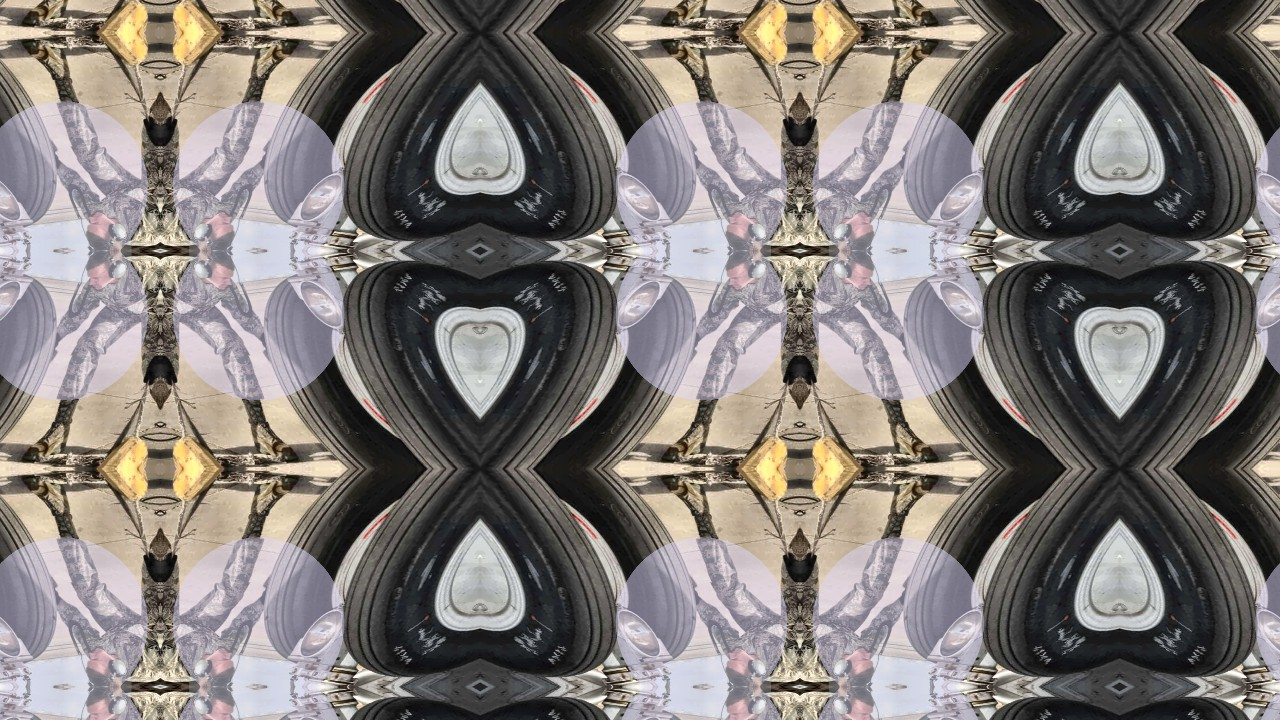chock: (4, 419, 157, 469), (163, 419, 316, 469), (644, 419, 797, 469), (803, 419, 956, 469), (4, 469, 157, 519), (163, 469, 316, 519), (644, 469, 797, 519), (803, 469, 956, 519), (4, 33, 157, 82), (163, 33, 316, 82), (644, 33, 797, 82), (803, 33, 956, 82), (4, 0, 157, 32), (163, 0, 316, 32), (644, 0, 797, 32), (803, 0, 956, 32)
wheel: (230, 269, 480, 469), (480, 269, 730, 469), (870, 269, 1120, 469), (230, 469, 480, 669), (480, 469, 730, 669), (870, 469, 1120, 669), (230, 33, 480, 232), (480, 33, 730, 232), (870, 33, 1120, 232), (1120, 269, 1280, 469), (1120, 469, 1280, 669), (1120, 33, 1280, 232), (0, 269, 90, 469), (0, 469, 90, 669), (0, 33, 90, 232), (230, 0, 480, 32), (480, 0, 730, 32), (870, 0, 1120, 32), (1120, 0, 1280, 32), (230, 706, 480, 720), (480, 706, 730, 720), (870, 706, 1120, 720), (0, 0, 90, 32)
